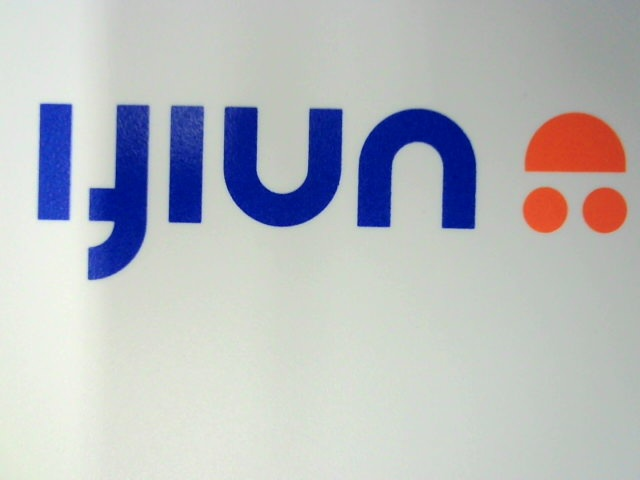BN_unifi: (20, 90, 628, 284)
